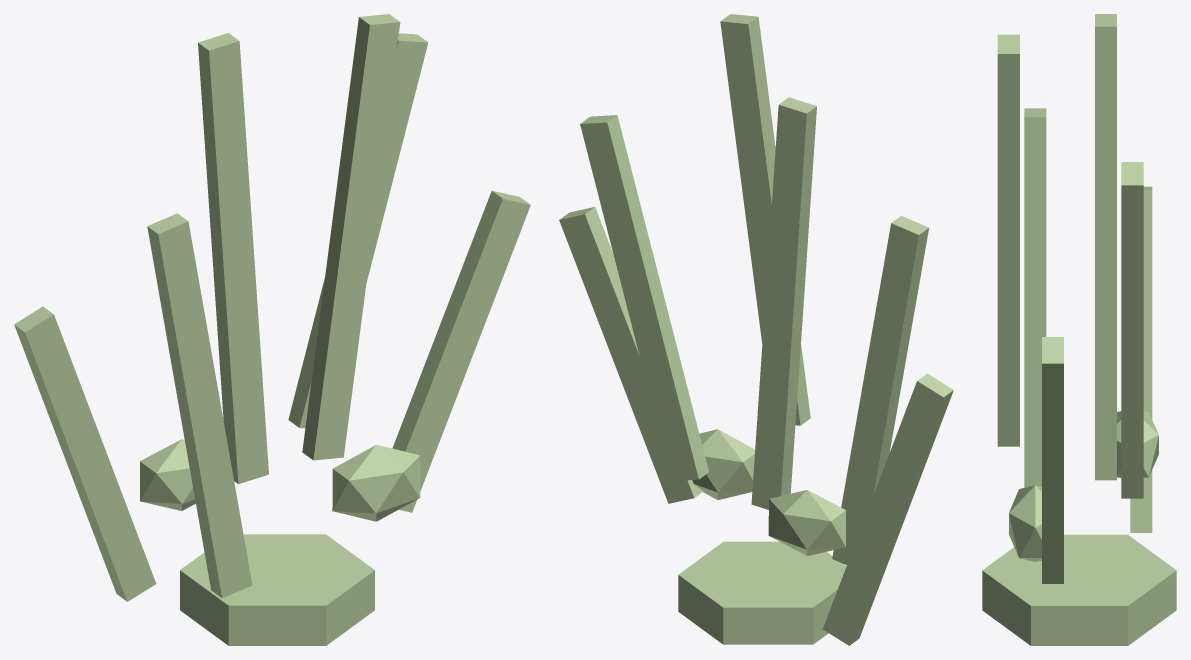
File: COASTAL_GRASS_TUSSOCK_001_LOD_CLOSE.glb
3 renders of one model, left to right at view 1: azimuth 30°, elevation 25°; view 2: azimuth 150°, elevation 25°; view 3: azimuth 270°, elevation 25°, orthographic. The views are drawn at different scales.
Visible parts, largest first — view 1: COASTAL_GRASS_TUSSOCK_001_LOD_CLOSE_BLADE_004, COASTAL_GRASS_TUSSOCK_001_LOD_CLOSE_BLADE_003, COASTAL_GRASS_TUSSOCK_001_LOD_CLOSE_GROUND_SOCKET, COASTAL_GRASS_TUSSOCK_001_LOD_CLOSE_BLADE_002, COASTAL_GRASS_TUSSOCK_001_LOD_CLOSE_BLADE_001, COASTAL_GRASS_TUSSOCK_001_LOD_CLOSE_BLADE_006, COASTAL_GRASS_TUSSOCK_001_LOD_CLOSE_BLADE_005, COASTAL_GRASS_TUSSOCK_001_LOD_CLOSE_TUFT_002, COASTAL_GRASS_TUSSOCK_001_LOD_CLOSE_TUFT_001; view 2: COASTAL_GRASS_TUSSOCK_001_LOD_CLOSE_BLADE_003, COASTAL_GRASS_TUSSOCK_001_LOD_CLOSE_BLADE_005, COASTAL_GRASS_TUSSOCK_001_LOD_CLOSE_GROUND_SOCKET, COASTAL_GRASS_TUSSOCK_001_LOD_CLOSE_BLADE_002, COASTAL_GRASS_TUSSOCK_001_LOD_CLOSE_BLADE_001, COASTAL_GRASS_TUSSOCK_001_LOD_CLOSE_BLADE_004, COASTAL_GRASS_TUSSOCK_001_LOD_CLOSE_BLADE_006, COASTAL_GRASS_TUSSOCK_001_LOD_CLOSE_TUFT_001, COASTAL_GRASS_TUSSOCK_001_LOD_CLOSE_TUFT_002; view 3: COASTAL_GRASS_TUSSOCK_001_LOD_CLOSE_GROUND_SOCKET, COASTAL_GRASS_TUSSOCK_001_LOD_CLOSE_BLADE_003, COASTAL_GRASS_TUSSOCK_001_LOD_CLOSE_BLADE_004, COASTAL_GRASS_TUSSOCK_001_LOD_CLOSE_BLADE_002, COASTAL_GRASS_TUSSOCK_001_LOD_CLOSE_BLADE_005, COASTAL_GRASS_TUSSOCK_001_LOD_CLOSE_BLADE_006, COASTAL_GRASS_TUSSOCK_001_LOD_CLOSE_BLADE_001, COASTAL_GRASS_TUSSOCK_001_LOD_CLOSE_TUFT_002, COASTAL_GRASS_TUSSOCK_001_LOD_CLOSE_TUFT_001.
Boxes of the visible parts, <box> form: COASTAL_GRASS_TUSSOCK_001_LOD_CLOSE_BLADE_004: <box>302,14,400,460</box>; COASTAL_GRASS_TUSSOCK_001_LOD_CLOSE_BLADE_003: <box>198,33,268,484</box>; COASTAL_GRASS_TUSSOCK_001_LOD_CLOSE_GROUND_SOCKET: <box>180,534,374,645</box>; COASTAL_GRASS_TUSSOCK_001_LOD_CLOSE_BLADE_002: <box>147,213,252,598</box>; COASTAL_GRASS_TUSSOCK_001_LOD_CLOSE_BLADE_001: <box>14,306,156,601</box>; COASTAL_GRASS_TUSSOCK_001_LOD_CLOSE_BLADE_006: <box>392,190,530,512</box>; COASTAL_GRASS_TUSSOCK_001_LOD_CLOSE_BLADE_005: <box>288,33,428,428</box>; COASTAL_GRASS_TUSSOCK_001_LOD_CLOSE_TUFT_002: <box>332,444,420,521</box>; COASTAL_GRASS_TUSSOCK_001_LOD_CLOSE_TUFT_001: <box>140,439,195,510</box>; COASTAL_GRASS_TUSSOCK_001_LOD_CLOSE_BLADE_003: <box>751,97,816,509</box>; COASTAL_GRASS_TUSSOCK_001_LOD_CLOSE_BLADE_005: <box>580,115,708,480</box>; COASTAL_GRASS_TUSSOCK_001_LOD_CLOSE_GROUND_SOCKET: <box>678,541,846,644</box>; COASTAL_GRASS_TUSSOCK_001_LOD_CLOSE_BLADE_002: <box>832,216,928,564</box>; COASTAL_GRASS_TUSSOCK_001_LOD_CLOSE_BLADE_001: <box>823,373,953,645</box>; COASTAL_GRASS_TUSSOCK_001_LOD_CLOSE_BLADE_004: <box>720,14,810,425</box>; COASTAL_GRASS_TUSSOCK_001_LOD_CLOSE_BLADE_006: <box>559,207,703,503</box>; COASTAL_GRASS_TUSSOCK_001_LOD_CLOSE_TUFT_001: <box>768,490,845,555</box>; COASTAL_GRASS_TUSSOCK_001_LOD_CLOSE_TUFT_002: <box>692,429,754,499</box>; COASTAL_GRASS_TUSSOCK_001_LOD_CLOSE_GROUND_SOCKET: <box>982,534,1176,645</box>; COASTAL_GRASS_TUSSOCK_001_LOD_CLOSE_BLADE_003: <box>1095,14,1116,480</box>; COASTAL_GRASS_TUSSOCK_001_LOD_CLOSE_BLADE_004: <box>997,34,1019,446</box>; COASTAL_GRASS_TUSSOCK_001_LOD_CLOSE_BLADE_002: <box>1024,108,1046,487</box>; COASTAL_GRASS_TUSSOCK_001_LOD_CLOSE_BLADE_005: <box>1121,162,1143,498</box>; COASTAL_GRASS_TUSSOCK_001_LOD_CLOSE_BLADE_006: <box>1042,337,1063,583</box>; COASTAL_GRASS_TUSSOCK_001_LOD_CLOSE_BLADE_001: <box>1130,186,1152,532</box>; COASTAL_GRASS_TUSSOCK_001_LOD_CLOSE_TUFT_002: <box>1009,485,1041,561</box>; COASTAL_GRASS_TUSSOCK_001_LOD_CLOSE_TUFT_001: <box>1117,411,1158,477</box>.
Size of the model in its own units: 1.2 by 1.51 by 0.44.
